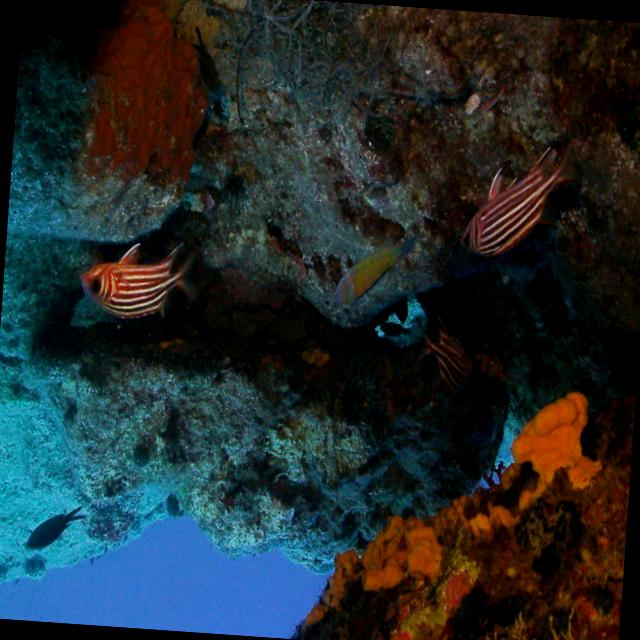Asker Baligi: (456, 130, 576, 264), (73, 230, 197, 326)
